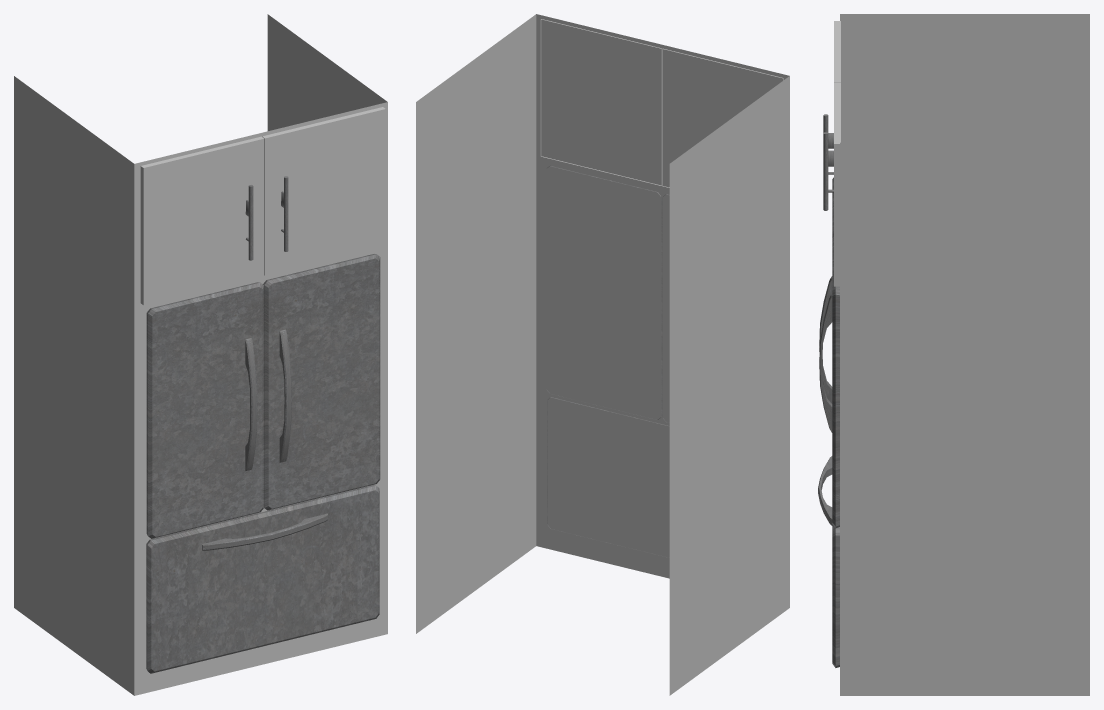
Rendered from SM_Kitchen_Tall_02.FBX.
3 views of the same model, side by side, from view 1: azimuth 30°, elevation 25°; view 2: azimuth 150°, elevation 25°; view 3: azimuth 270°, elevation 25° (orthographic). The views are drawn at different scales.
Visible parts, largest first — view 1: SM_Kitchen_Tall_02; view 2: SM_Kitchen_Tall_02; view 3: SM_Kitchen_Tall_02.
Part boxes in pixels (box(x1,y1,x2,y2)): SM_Kitchen_Tall_02: box(14, 14, 387, 695); SM_Kitchen_Tall_02: box(416, 14, 789, 695); SM_Kitchen_Tall_02: box(818, 14, 1089, 695).
Size of the model in its own units: 1.41 by 2.83 by 1.26.
